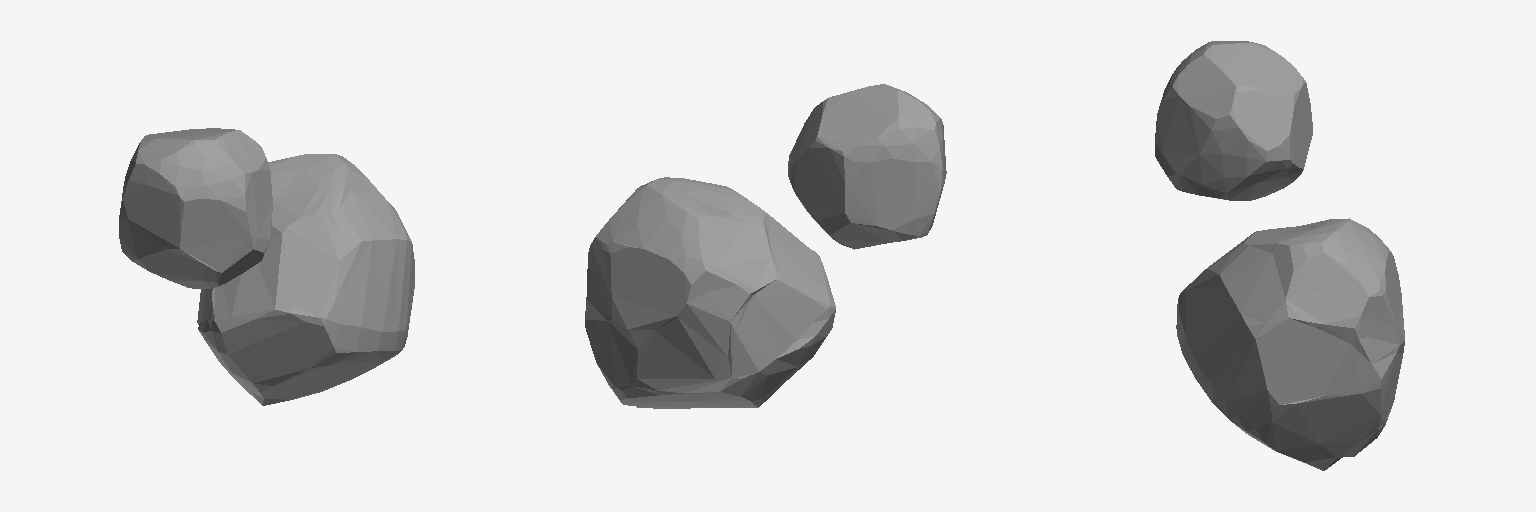
Rendered from rock0.obj.
3 views of the same model, side by side, from view 1: azimuth 30°, elevation 25°; view 2: azimuth 150°, elevation 25°; view 3: azimuth 270°, elevation 25° (orthographic).
Parts seen in each view (by area): view 1: UI_Rocks_Cube.294; view 2: UI_Rocks_Cube.294; view 3: UI_Rocks_Cube.294.
Boxes of the visible parts, x1,y1,x2,y2 form: UI_Rocks_Cube.294: [119, 128, 414, 405]; UI_Rocks_Cube.294: [585, 84, 946, 408]; UI_Rocks_Cube.294: [1155, 41, 1404, 470].
Size of the model in its own units: 0.4073 by 0.4131 by 0.2855.